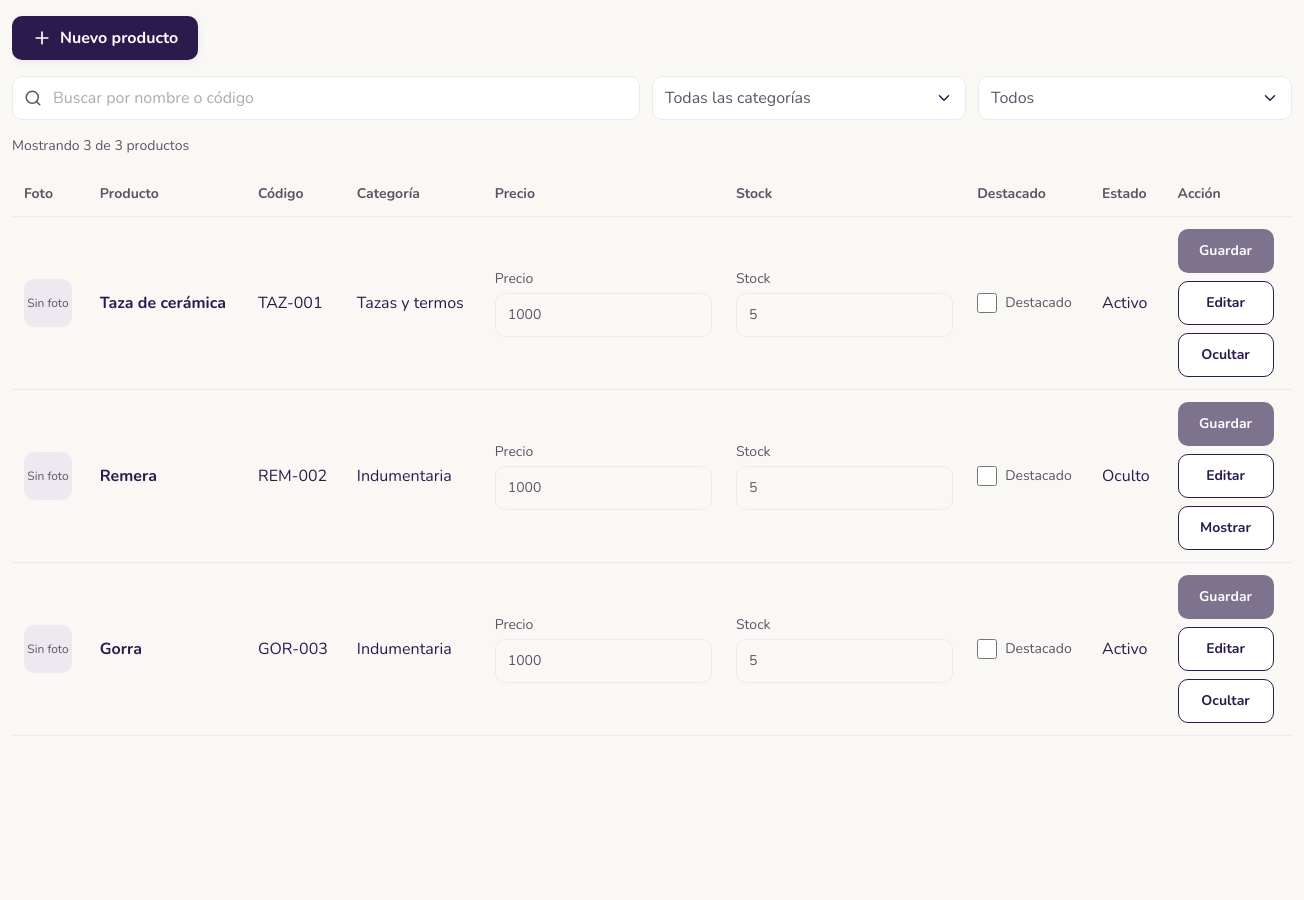
Test: GestionProductos › filtra por categoría y por estado
The image size is (1304, 900).
Click the dropdown labelled "Todas las categorías" at (809, 98), box [652,76,966,120]
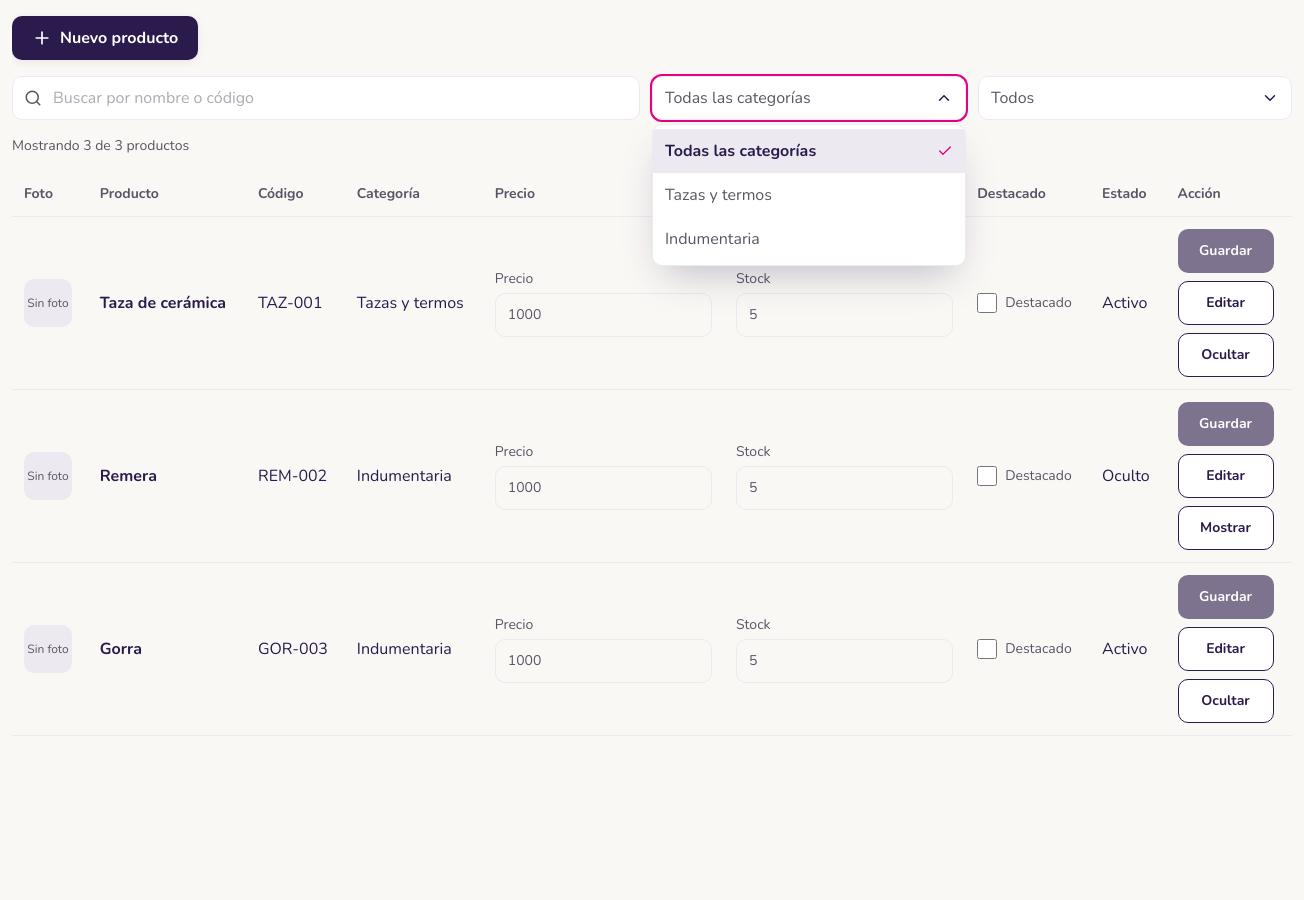
Click the option "Indumentaria" at (712, 239), box [665,228,760,250]
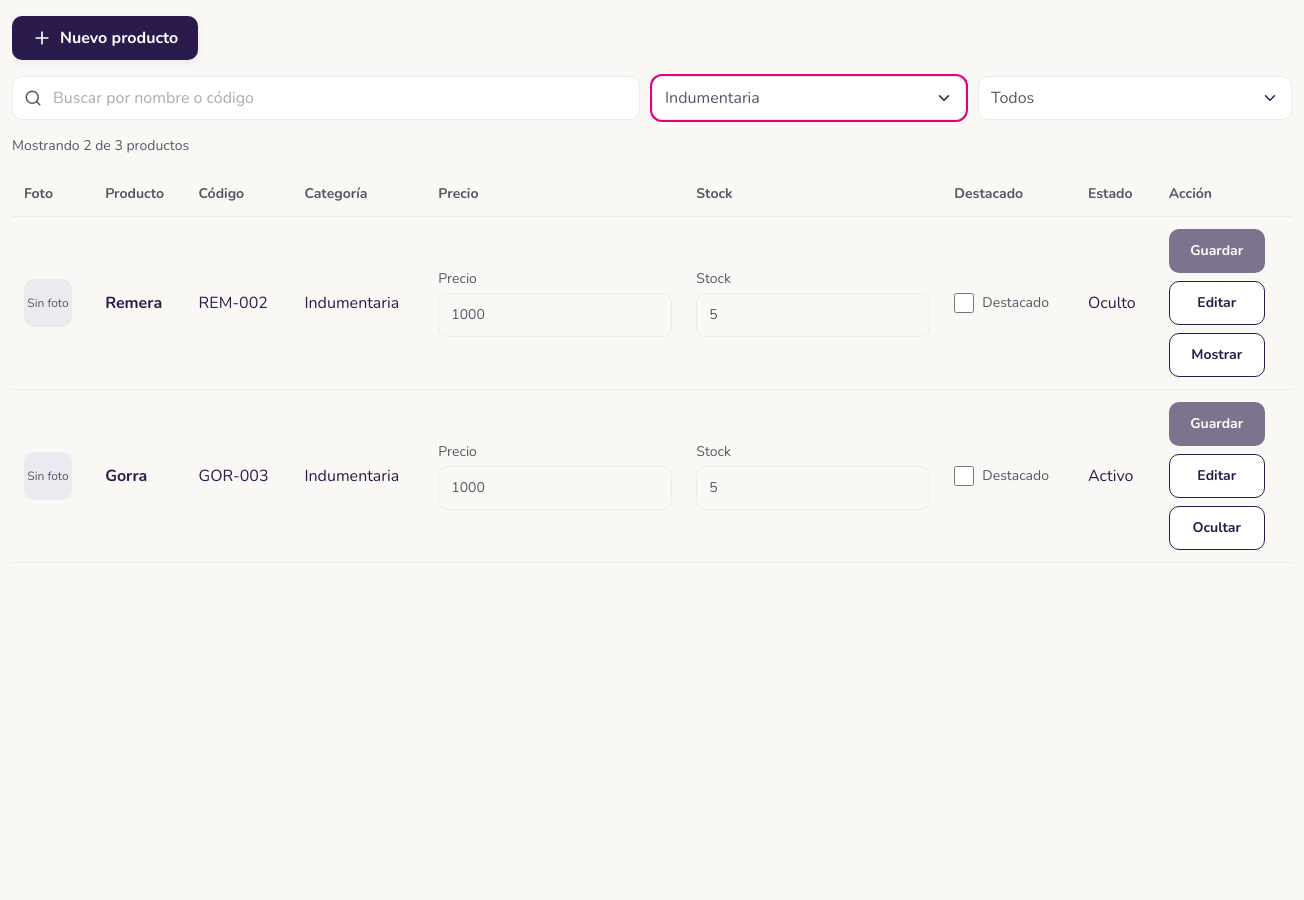
Click the dropdown named "Estado" at (1013, 98), box [978,76,1292,120]
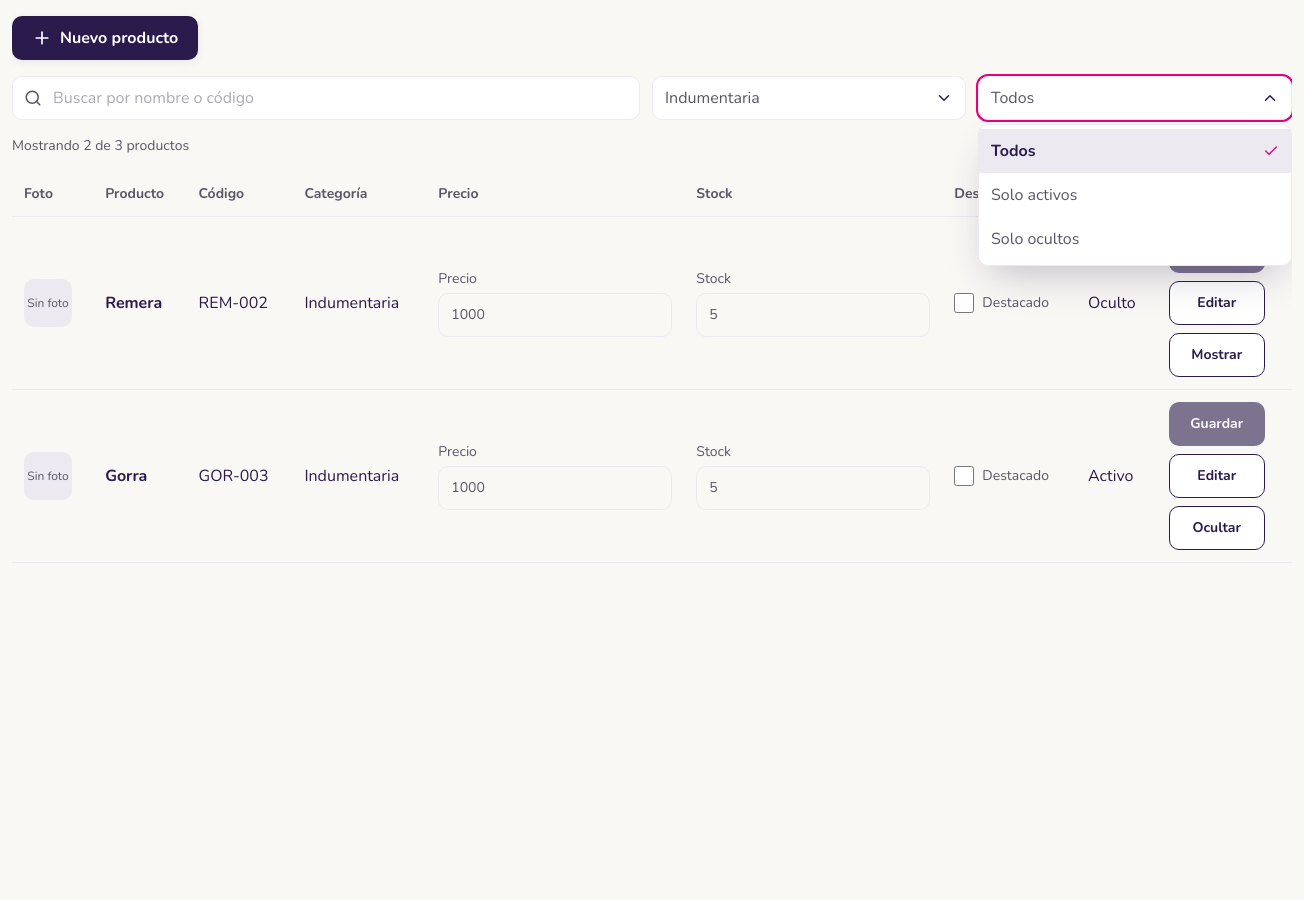
Click the option "Solo ocultos" at (1035, 239), box [991,228,1079,250]
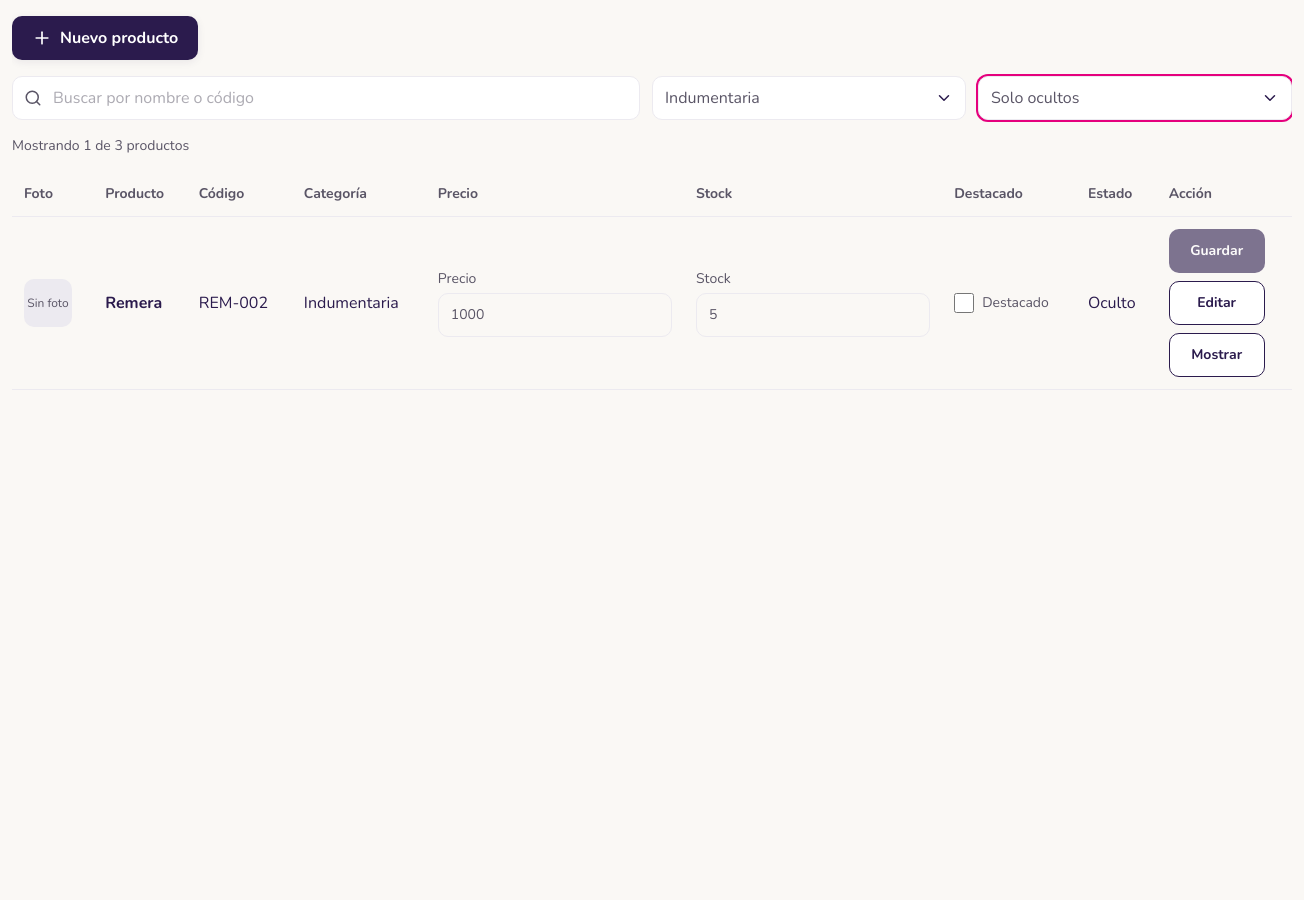
Check: the column heading "Remera" is shown, box [93,216,187,390]
Check: the column heading "Gorra" is gone
